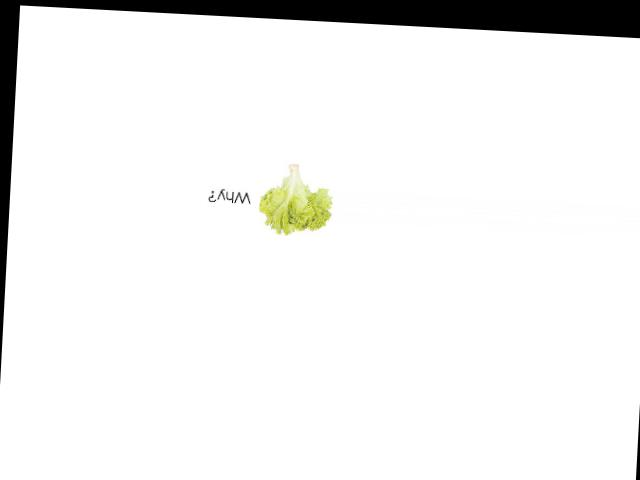lettuce: (250, 160, 336, 238)
